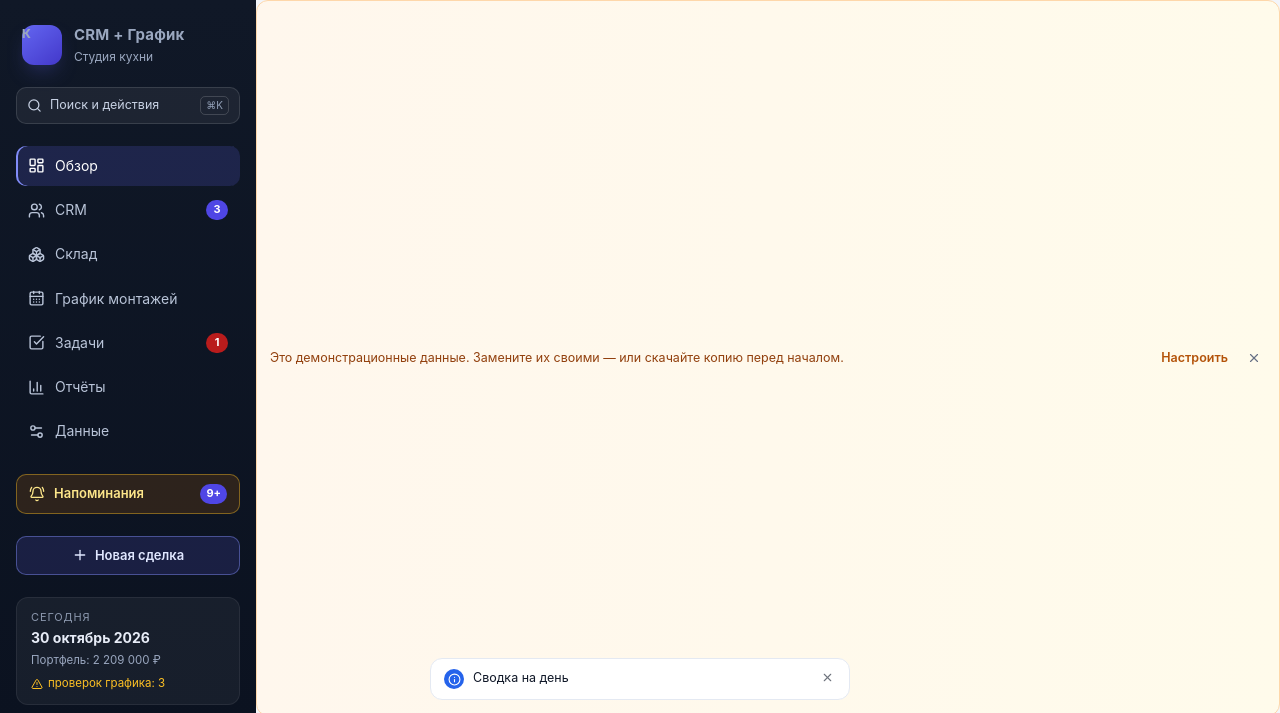
Test case: раздел «Отчёты» › выгружает сделки и отчёт в CSV
Click the button "Отчёты". click: x=128, y=387
box: [16,367,240,407]
(page scrolled)
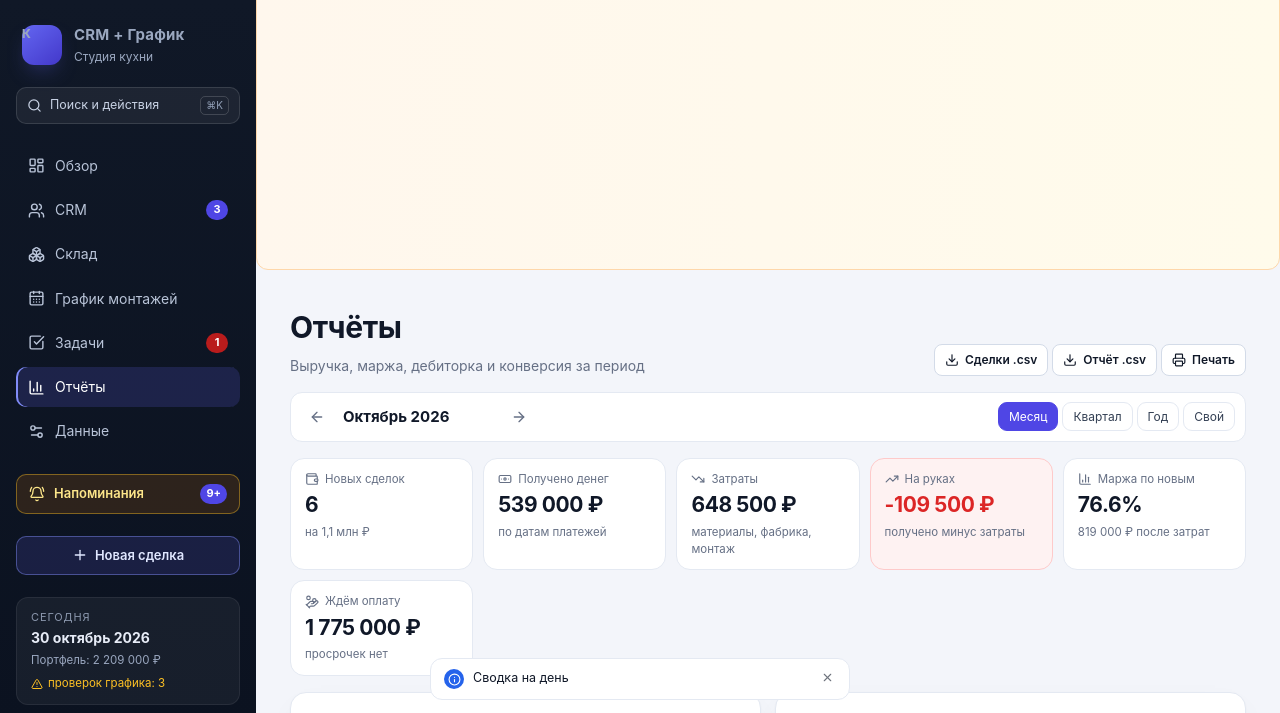
Now the number of buttons "Сделки .csv" is 2
Click the button "Сделки .csv". click: x=991, y=360
box: [934,344,1048,376]
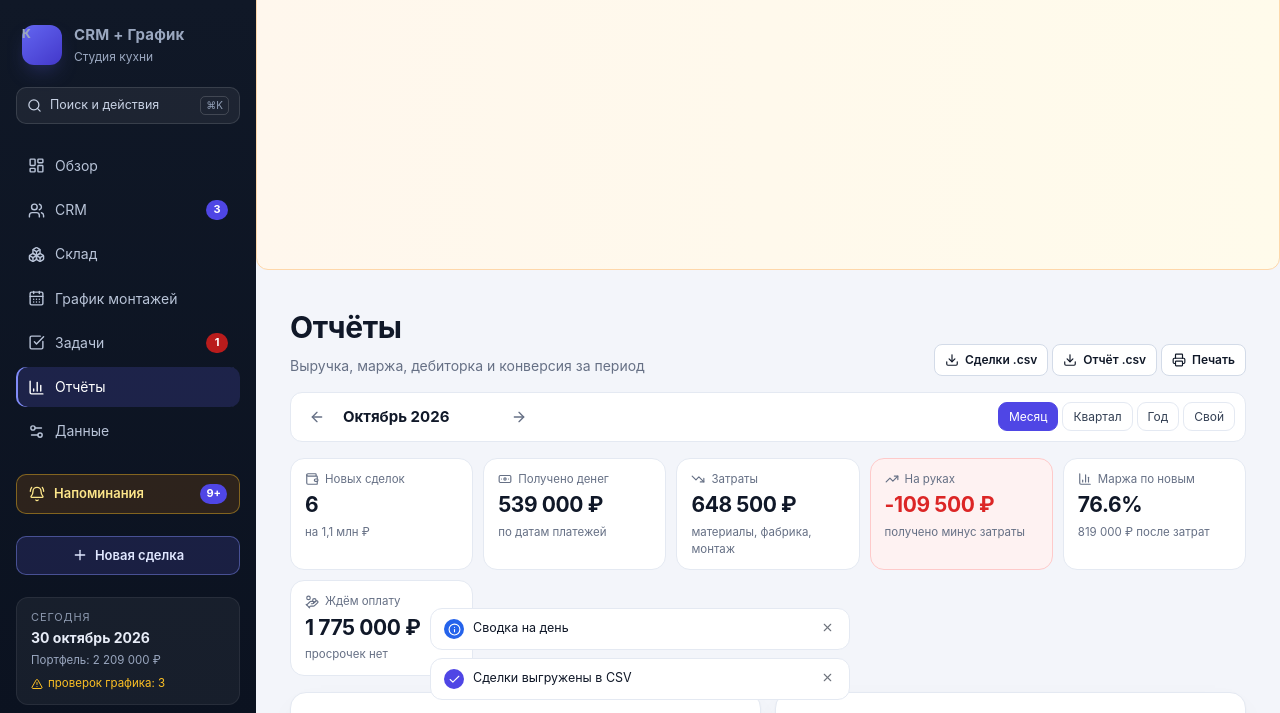
Click the button "Отчёт .csv". click: x=1105, y=360
box: [1052,344,1157,376]
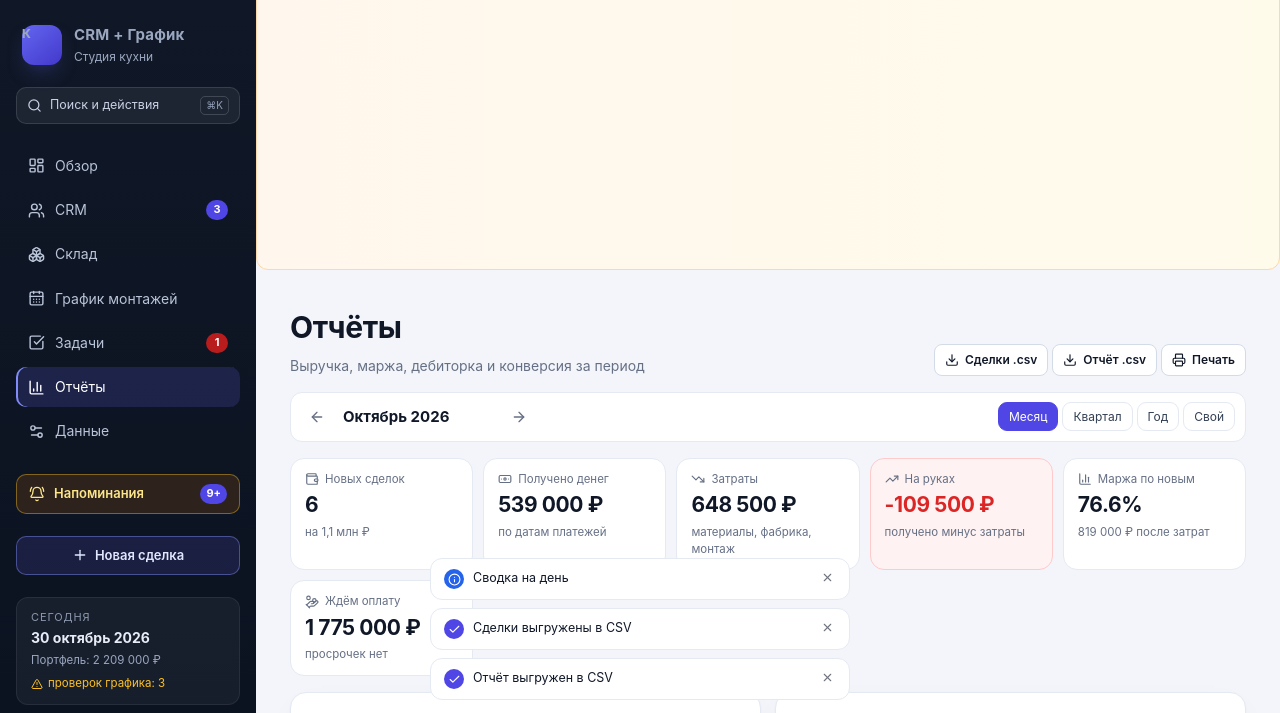
Now the text "Отчёт выгружен в CSV" is shown, box [473,670,613,685]
